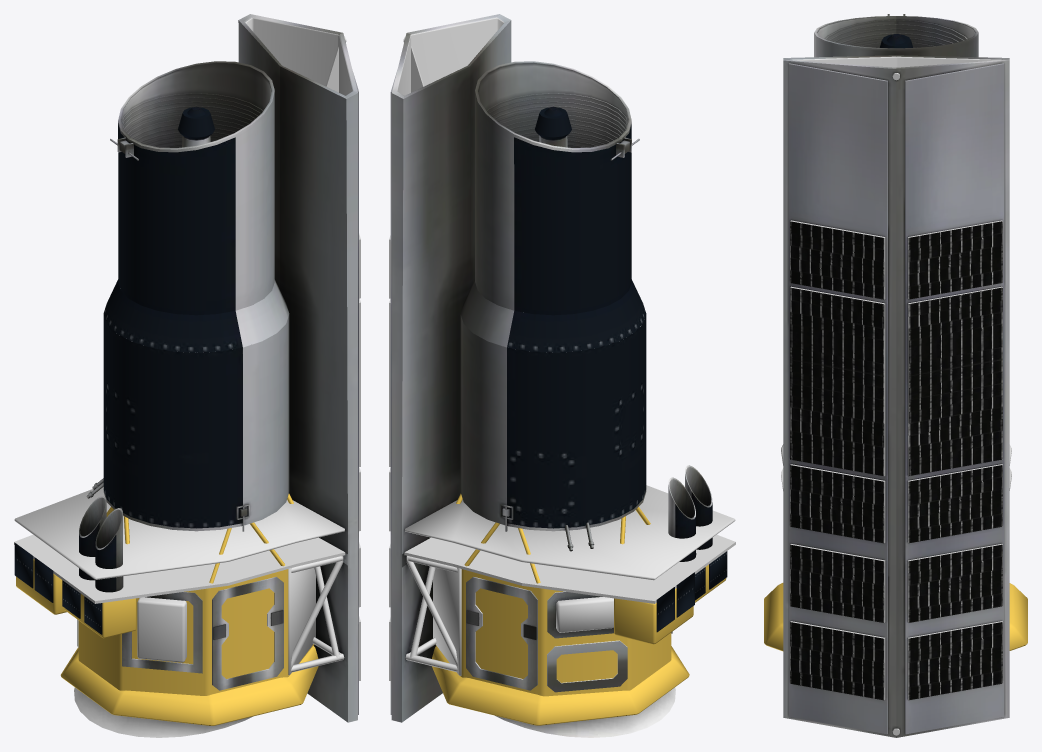
Rendered from spitzer.glb.
The picture shows the model from 3 angles, left to right: view 1: azimuth 30°, elevation 25°; view 2: azimuth 150°, elevation 25°; view 3: azimuth 270°, elevation 25°; orthographic projection. The views are drawn at different scales.
Parts seen in each view (by area): view 1: BUS, gold_foil, silver_foil, BUS.002, foil_platform, BUS.001; view 2: BUS, gold_foil, silver_foil, BUS.002, foil_platform, BUS.001; view 3: BUS, gold_foil.
Part boxes in pixels (<box>): BUS: <box>14,14,360,722</box>; gold_foil: <box>16,493,318,725</box>; silver_foil: <box>14,487,344,675</box>; BUS.002: <box>103,279,289,352</box>; foil_platform: <box>14,534,345,603</box>; BUS.001: <box>74,687,252,737</box>; BUS: <box>389,14,727,722</box>; gold_foil: <box>432,493,726,725</box>; silver_foil: <box>405,485,735,675</box>; BUS.002: <box>460,279,646,352</box>; foil_platform: <box>404,534,735,603</box>; BUS.001: <box>495,687,675,737</box>; BUS: <box>783,14,1009,737</box>; gold_foil: <box>764,583,1027,651</box>.
Size of what is drawn, in the model's own units: 2.06 by 4.5 by 1.55.
6 materials, 3 textured.
